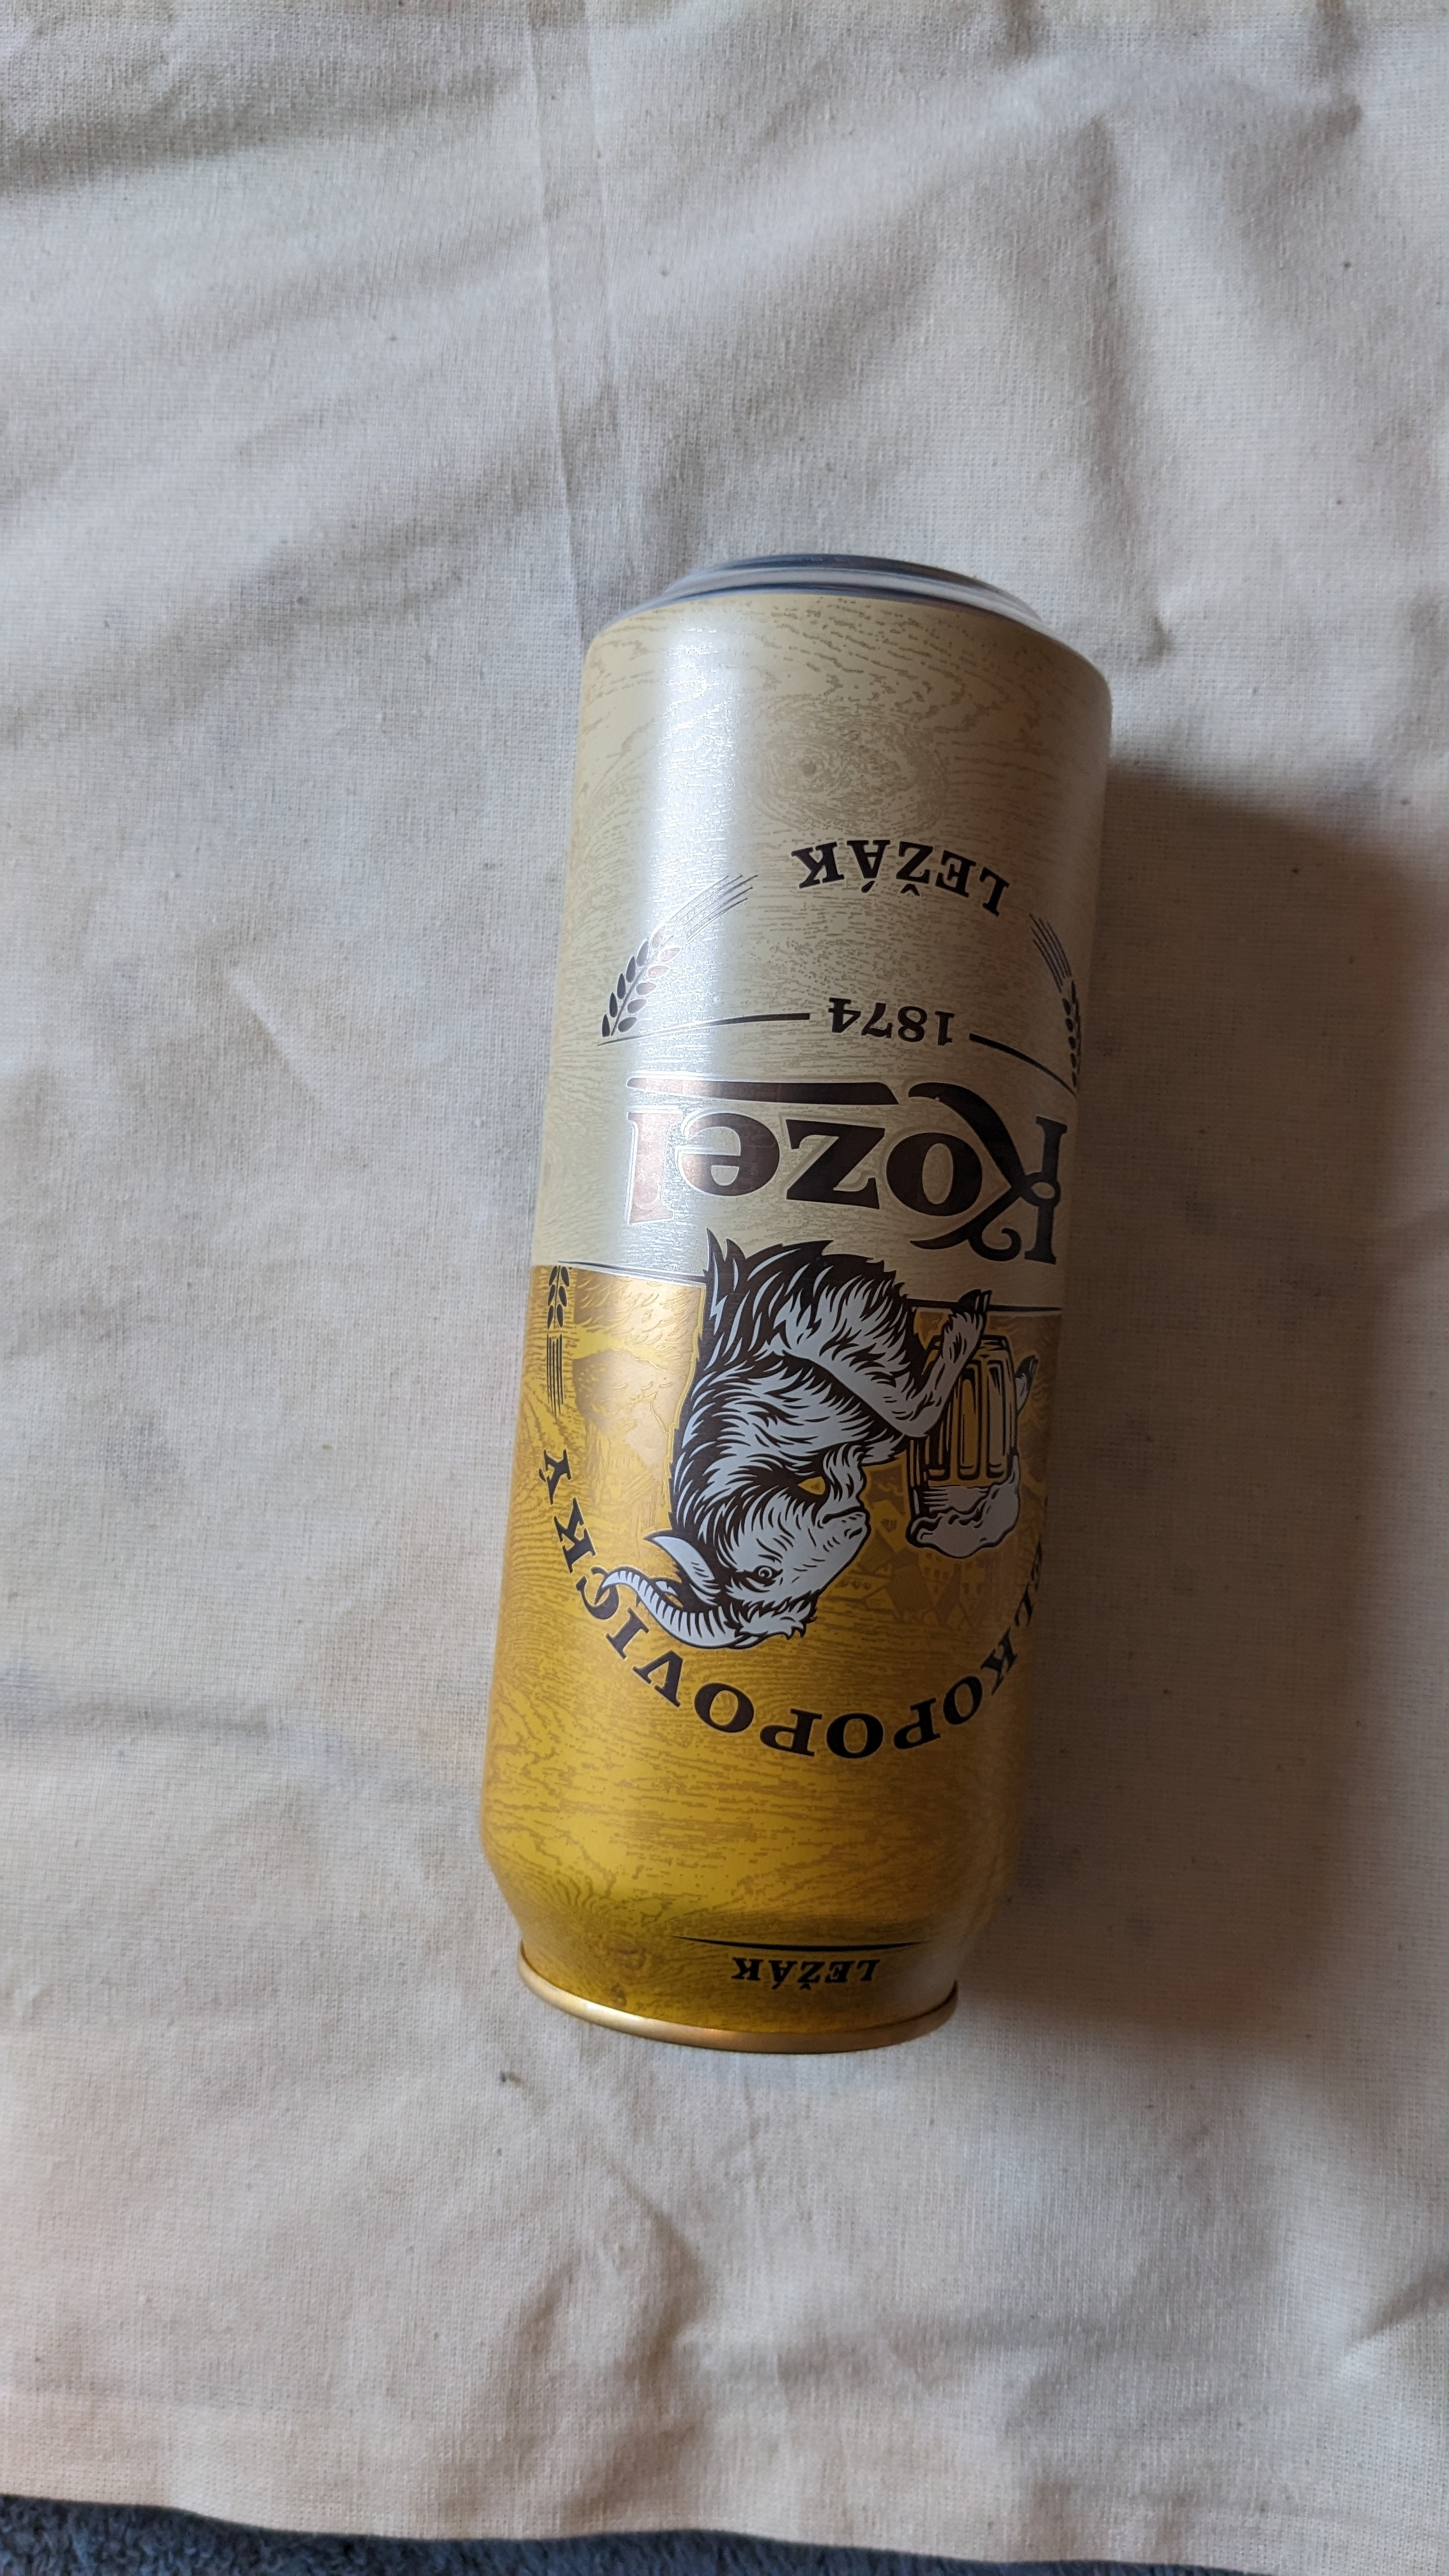kozel: (474, 543, 1150, 2084)
